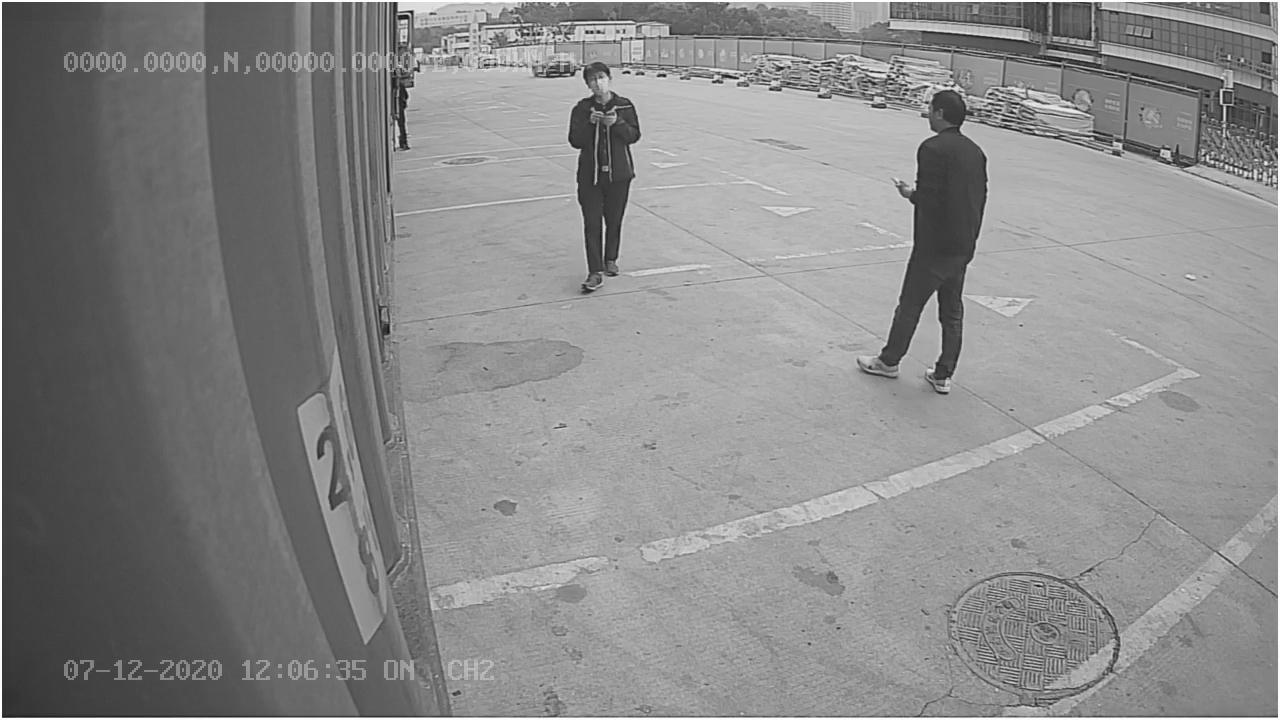person: (855, 86, 993, 399), (568, 56, 642, 297)
